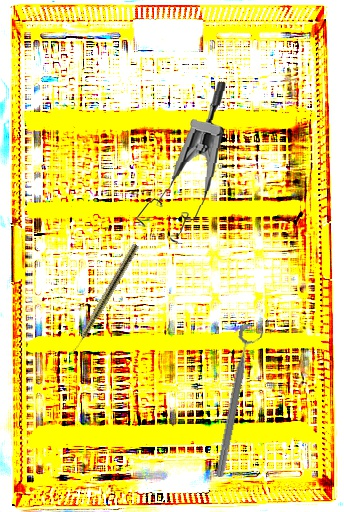Fixation Ring: (211, 323, 266, 480)
Handpiece: (67, 242, 140, 359)
Speculum: (134, 76, 228, 247)
